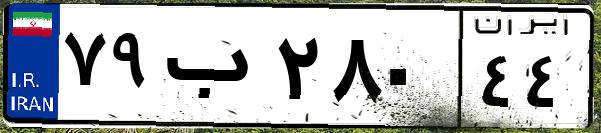0: (385, 28, 445, 110)
2: (270, 28, 330, 110)
4: (475, 38, 525, 113), (525, 38, 570, 115)
7: (57, 26, 110, 100)
8: (330, 28, 385, 110)
9: (110, 28, 158, 98)
ب: (158, 20, 270, 120)
